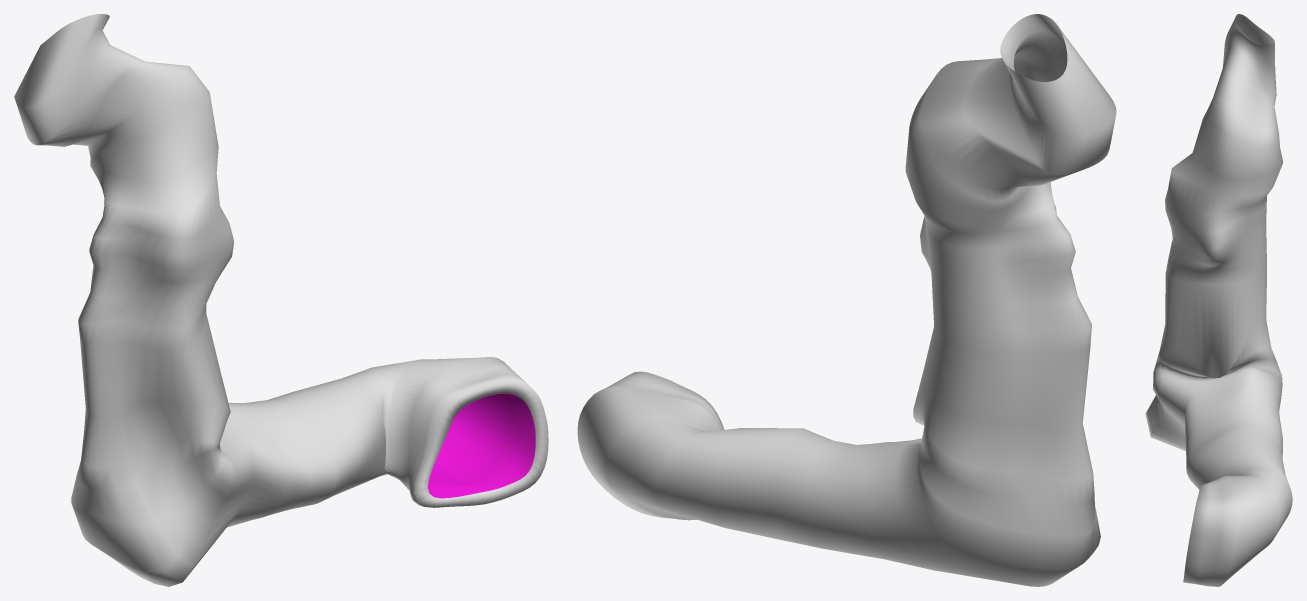
The model's file is tron_0.0.fbx.
3 views of the same model, side by side, from view 1: azimuth 30°, elevation 25°; view 2: azimuth 150°, elevation 25°; view 3: azimuth 270°, elevation 25° (orthographic). The views are drawn at different scales.
Visible parts, largest first — view 1: tron; view 2: tron; view 3: tron.
Part boxes in pixels (x1=…): tron: x1=14, y1=14, x2=548, y2=586; tron: x1=577, y1=14, x2=1116, y2=586; tron: x1=1145, y1=14, x2=1292, y2=586.
Size of the model in its own units: 1751 by 1896 by 590.
